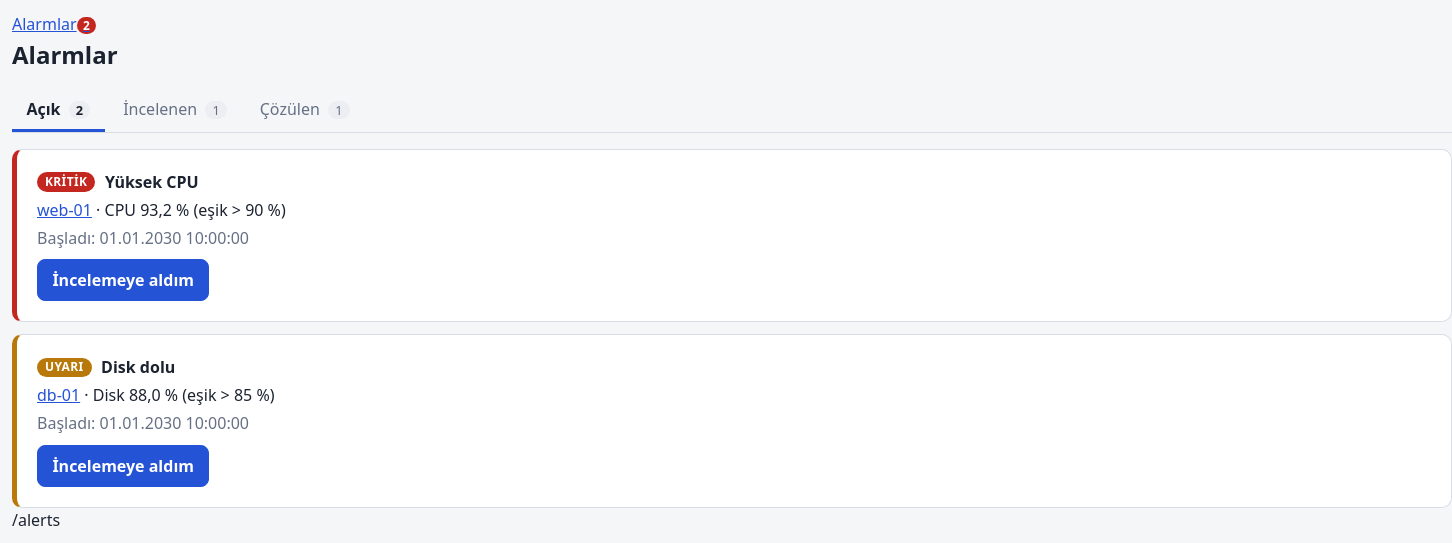
Scenario: AlertsPage › "Çözülen" sekmesi süreyi (sunucu zaman damgalarından) ve incelemeyi gösterir
What coordinates should you click on to do the following:
click the tab "Çözülen 1"
I would click on:
 (305, 110)
Its box is 245,89 -> 364,132.
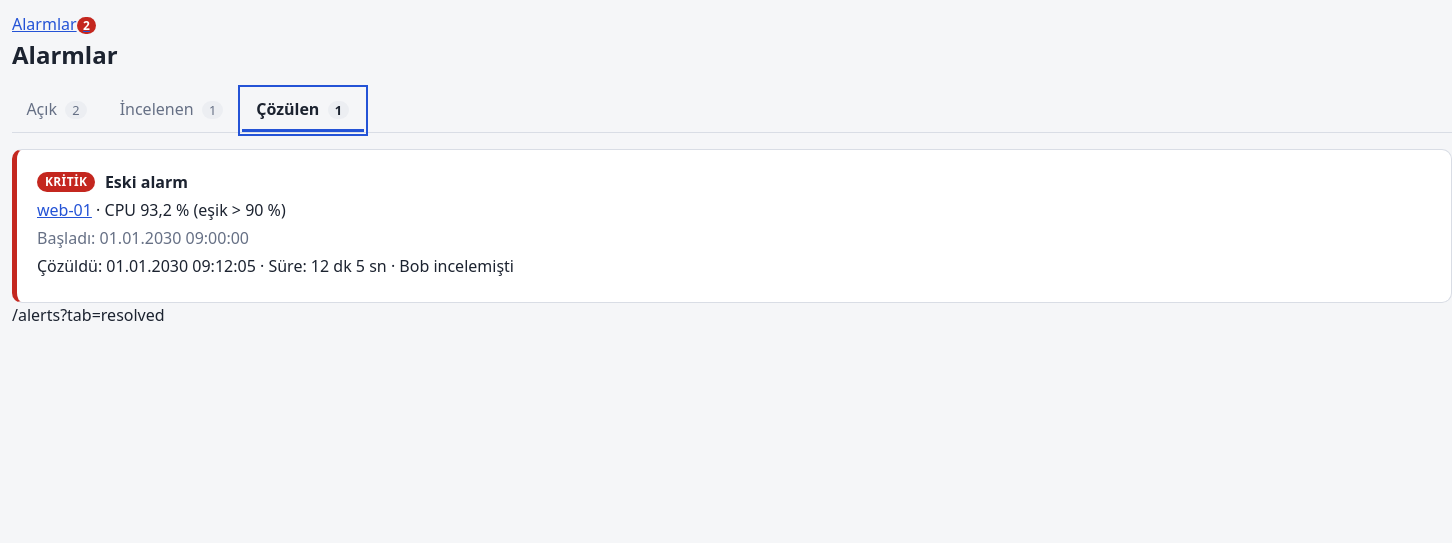
Expected: the list item with test id "alert-card" shows "Süre: 12 dk 5 sn", 12,149 -> 1451,303
Expected: the list item with test id "alert-card" shows "Bob incelemişti", 12,149 -> 1451,303
